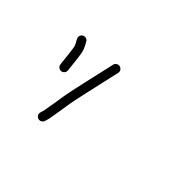i: (50, 29, 104, 74)
